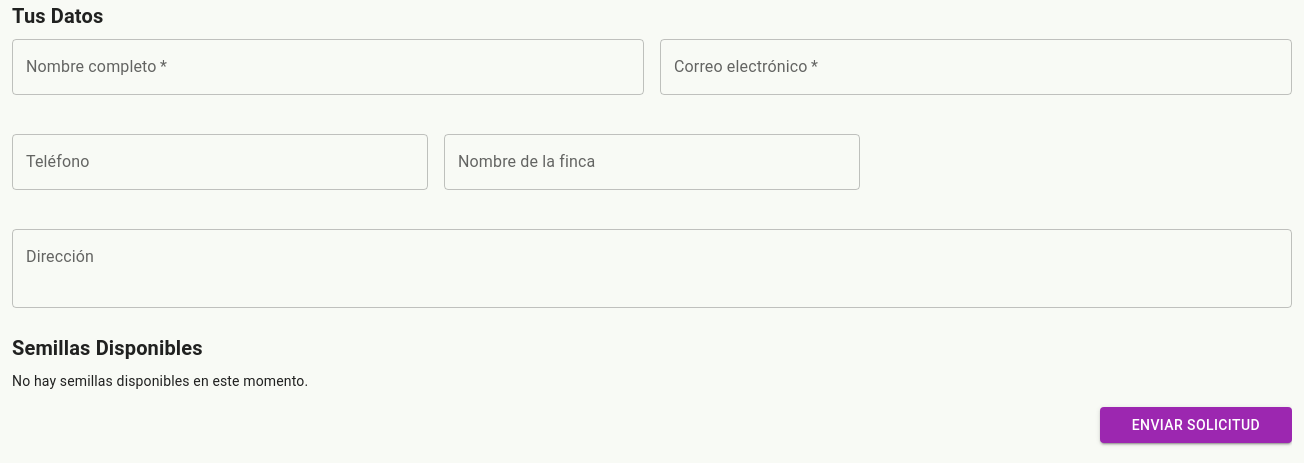
Test: SolicitarForm — Línea Gráfica Pitahaya › inline validation › shows error on nombre on blur when empty
The width and height of the screenshot is (1304, 463).
Click the field labelled "Nombre completo *" at (328, 67), box [12, 39, 644, 95]
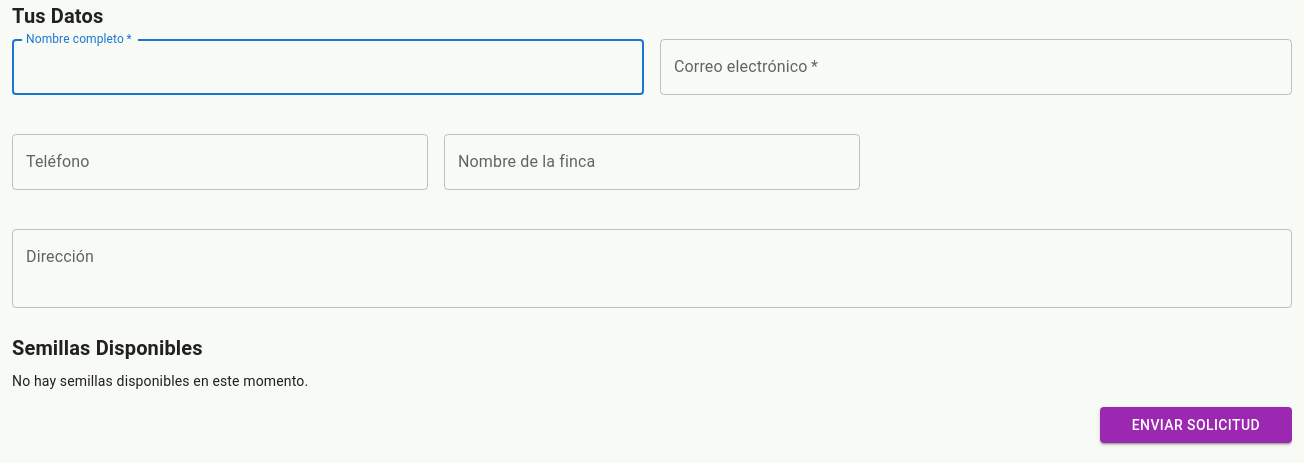
Press Tab
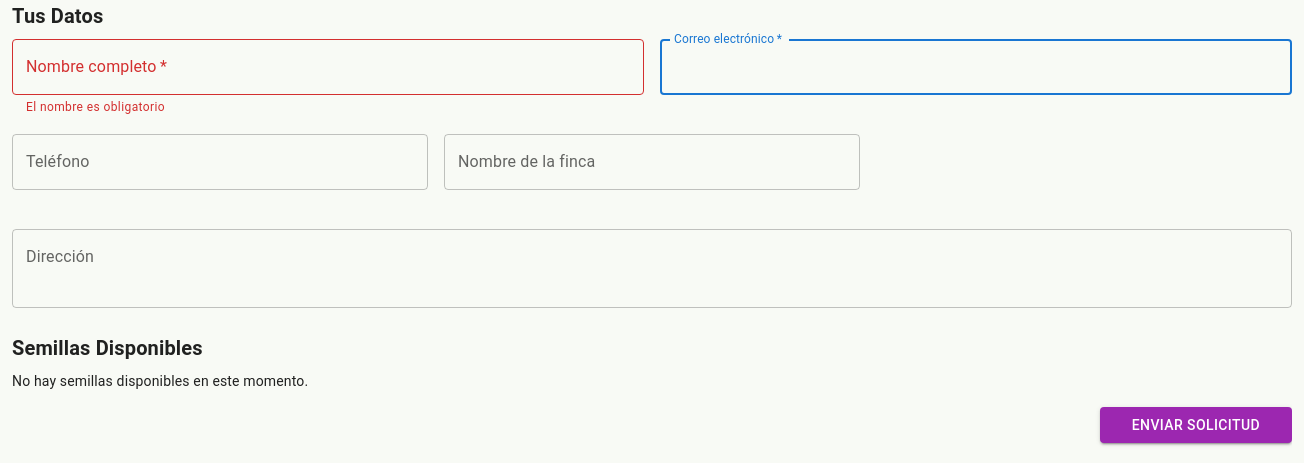
Check: the text "El nombre es obligatorio" is shown, box [26, 100, 165, 114]
